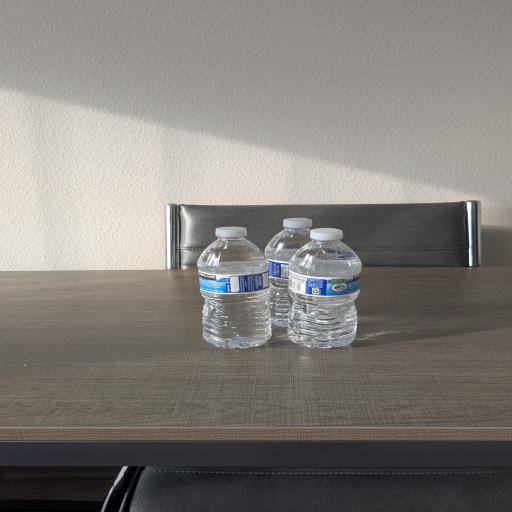waterbottle: (198, 227, 271, 348), (289, 229, 361, 348), (266, 218, 312, 326)
